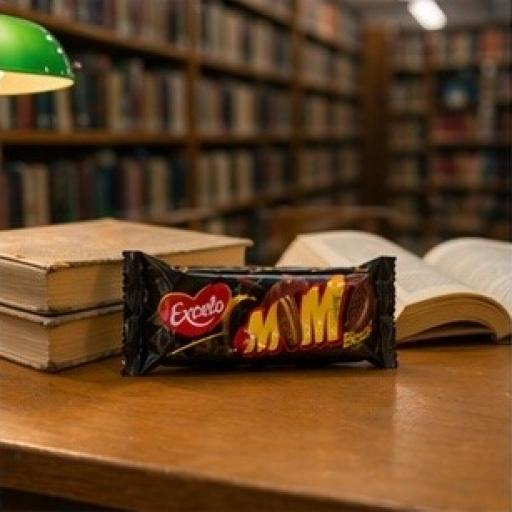MOMO: (95, 200, 437, 436)
